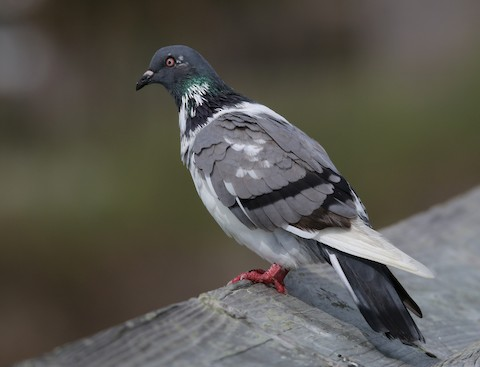pigeon: (132, 38, 437, 350)
